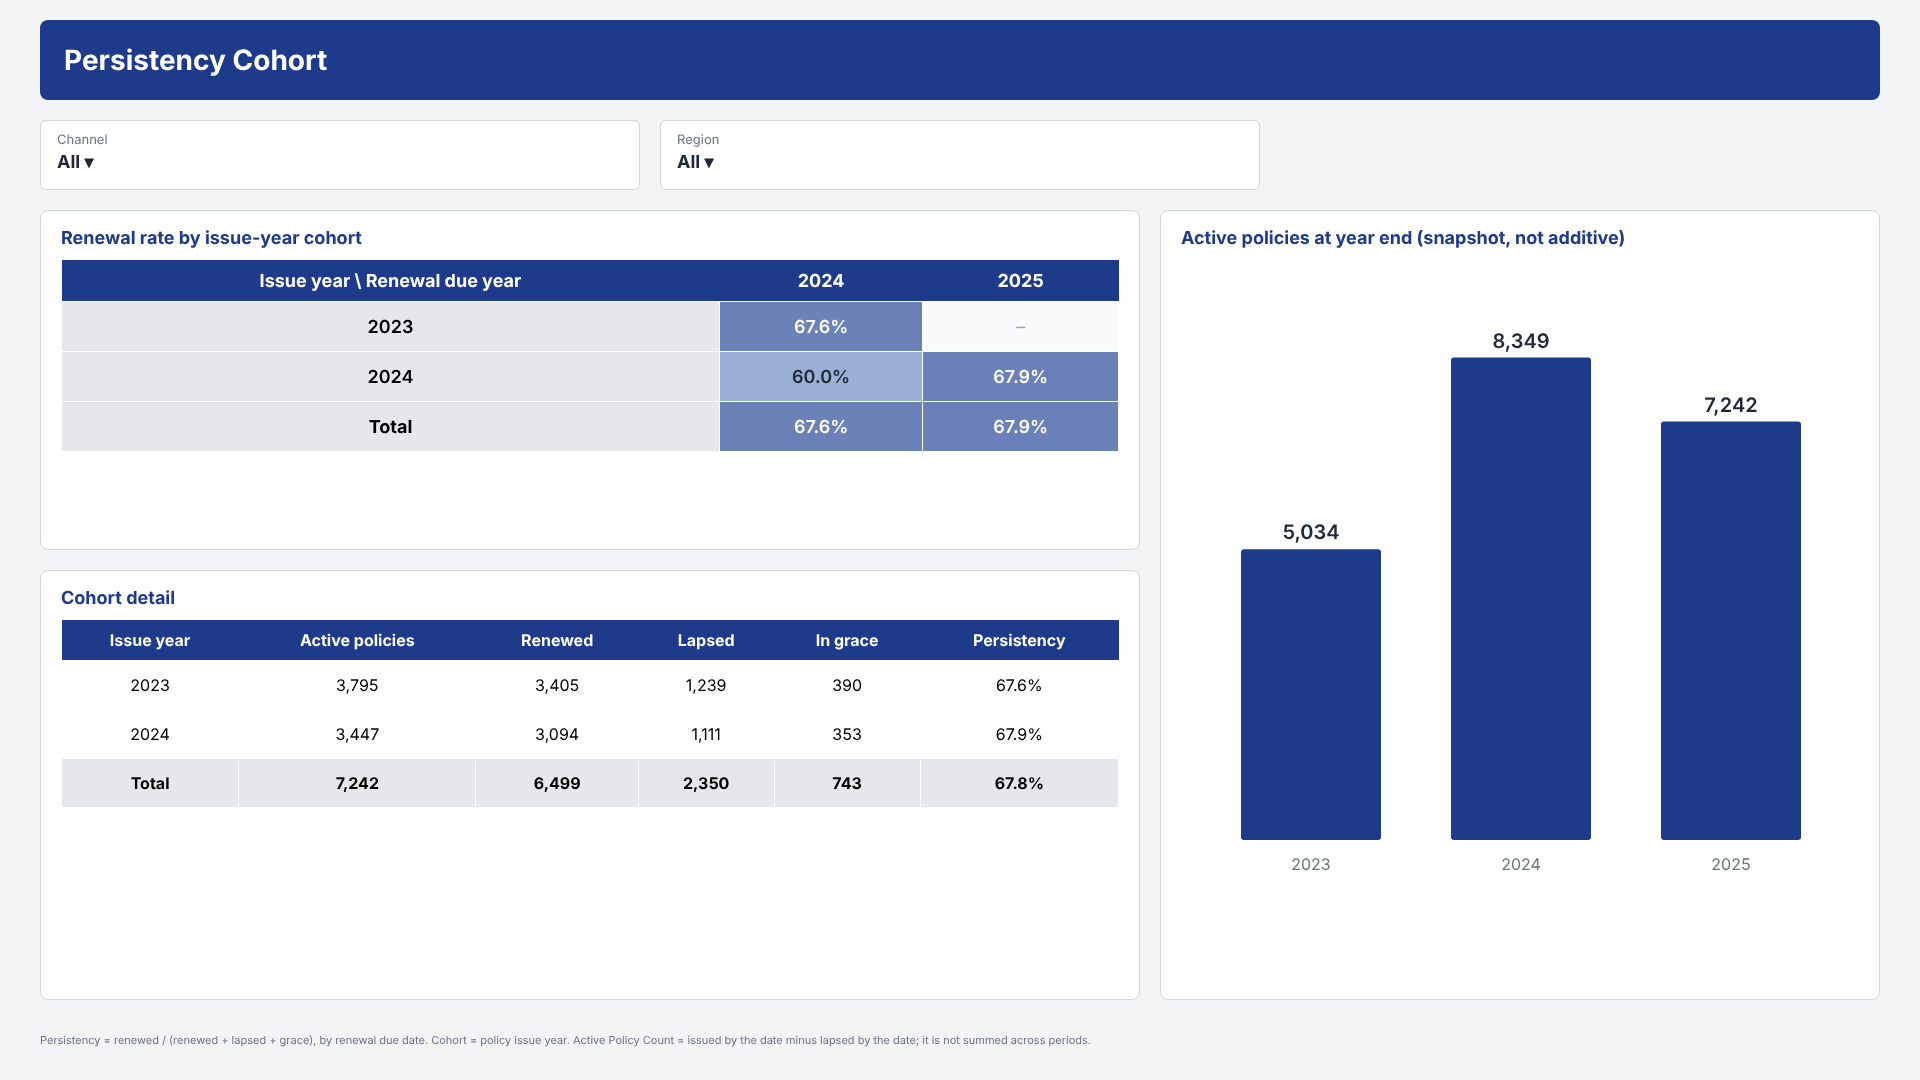

What the dashboard file says about the page in this screenshot:
{"tool":"powerbi","page":{"name":"Persistency Cohort","canvas":[1920,1080],"ordinal":3},"visuals":[{"type":"pivotTable","title":"Renewal rate by issue-year cohort","fields":{"Columns":["fact_persistency.renewal_due_year"],"Rows":["fact_persistency.issue_year"],"Values":["_Measures.Persistency Rate"]},"box":[40,210,1100,340],"z":0},{"type":"tableEx","title":"Cohort detail","fields":{"Values":["fact_persistency.issue_year","_Measures.Active Policy Count","_Measures.Policies Renewed","_Measures.Policies Lapsed","_Measures.Policies in Grace","_Measures.Persistency Rate"]},"box":[40,570,1100,430],"z":1000},{"type":"clusteredColumnChart","title":"Active policies at year end (snapshot, not additive)\t","fields":{"Category":["dim_date.year"],"Y":["_Measures.Active Policy Count"]},"box":[1160,210,720,790],"z":2000},{"type":"slicer","fields":{"Values":["dim_agent.channel"]},"box":[40,120,600,70],"z":3000},{"type":"slicer","fields":{"Values":["dim_agent.region"]},"box":[660,120,600,70],"z":4000},{"type":"textbox","box":[40,20,1840,80],"z":5000},{"type":"textbox","box":[40,1020,1840,40],"z":6000}]}

Visuals, with their boxes in screenshot pixels (x1, y1, x2, y2), scaled from the page's 1920x1080 canvas onto the 1920x1080 screenshot:
"Renewal rate by issue-year cohort" pivotTable: 40 210 1140 550
"Cohort detail" tableEx: 40 570 1140 1000
"Active policies at year end (snapshot, not additive)	" clusteredColumnChart: 1160 210 1880 1000
slicer - dim_agent.channel: 40 120 640 190
slicer - dim_agent.region: 660 120 1260 190
textbox: 40 20 1880 100
textbox: 40 1020 1880 1060
